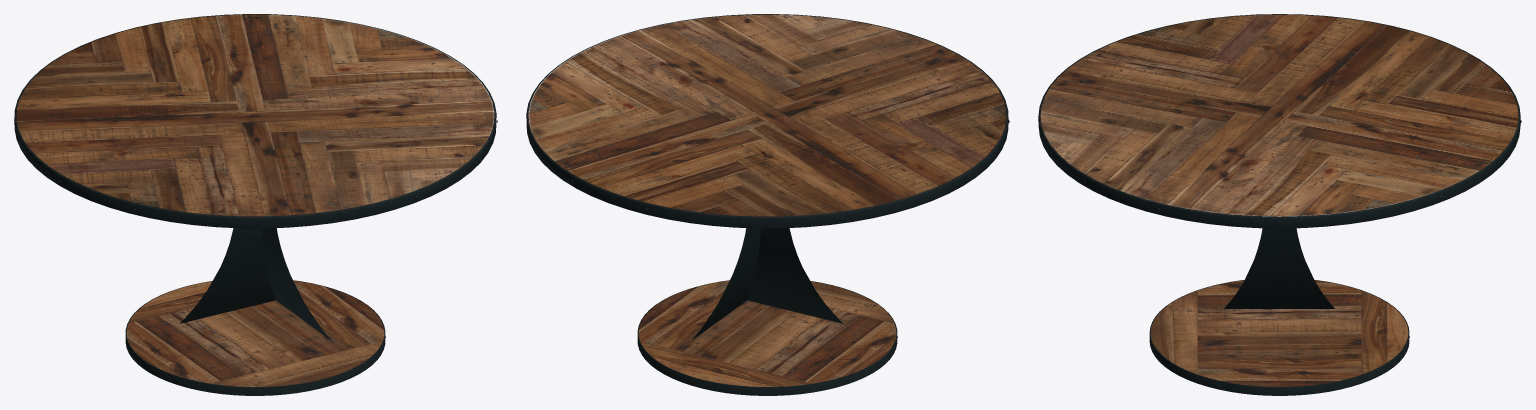
The model's file is example98.gltf.
The picture shows the model from 3 angles, left to right: view 1: azimuth 30°, elevation 25°; view 2: azimuth 150°, elevation 25°; view 3: azimuth 270°, elevation 25°; orthographic projection.
Size of the model in its own units: 150 by 77.53 by 151.
2 materials, 2 textured.
